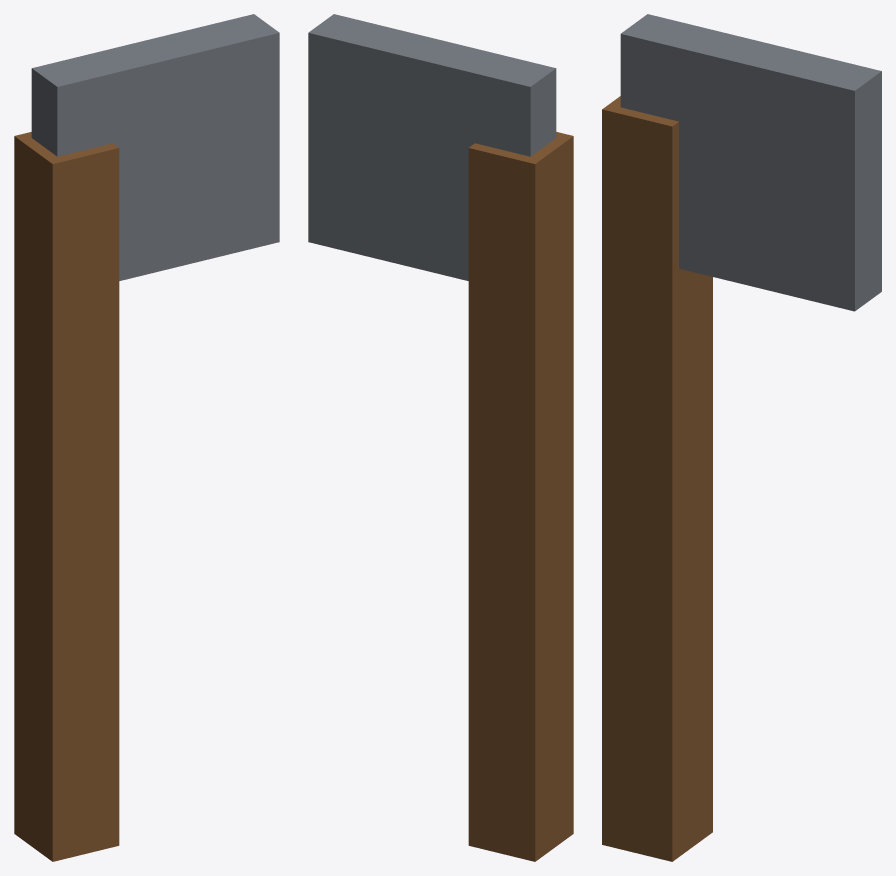
Rendered from good_22.glb.
3 views of the same model, side by side, from view 1: azimuth 30°, elevation 25°; view 2: azimuth 150°, elevation 25°; view 3: azimuth 330°, elevation 25° (orthographic). The views are drawn at different scales.
Visible parts, largest first — view 1: good_22; view 2: good_22; view 3: good_22.
Part boxes in pixels (bbox=[...]): good_22: bbox=[14, 14, 279, 861]; good_22: bbox=[308, 14, 573, 861]; good_22: bbox=[602, 14, 881, 861].
Size of the model in its own units: 0.0525 by 0.165 by 0.015.
